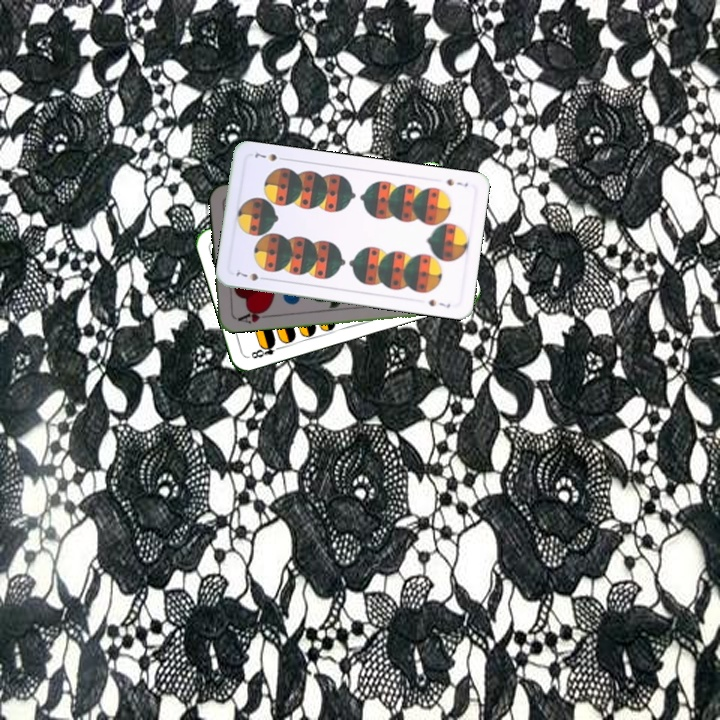E8: (244, 338, 284, 361)
HA: (233, 305, 273, 326)
S7: (232, 267, 270, 284), (443, 175, 470, 190)
